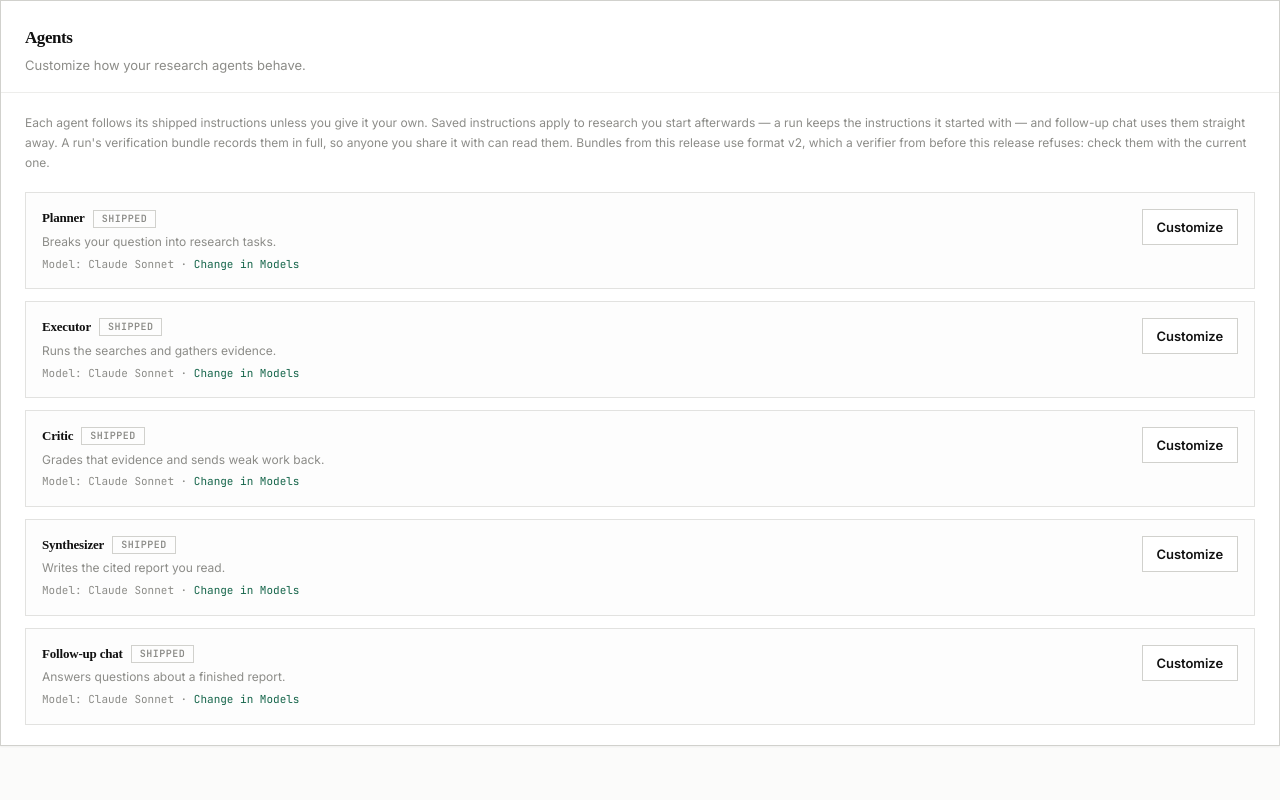
Test case: editing › keeps one editor open at a time
Click the button "Customize" in the row of "Planner": {"x": 1190, "y": 227} [1142,209,1238,245]
(page scrolled)
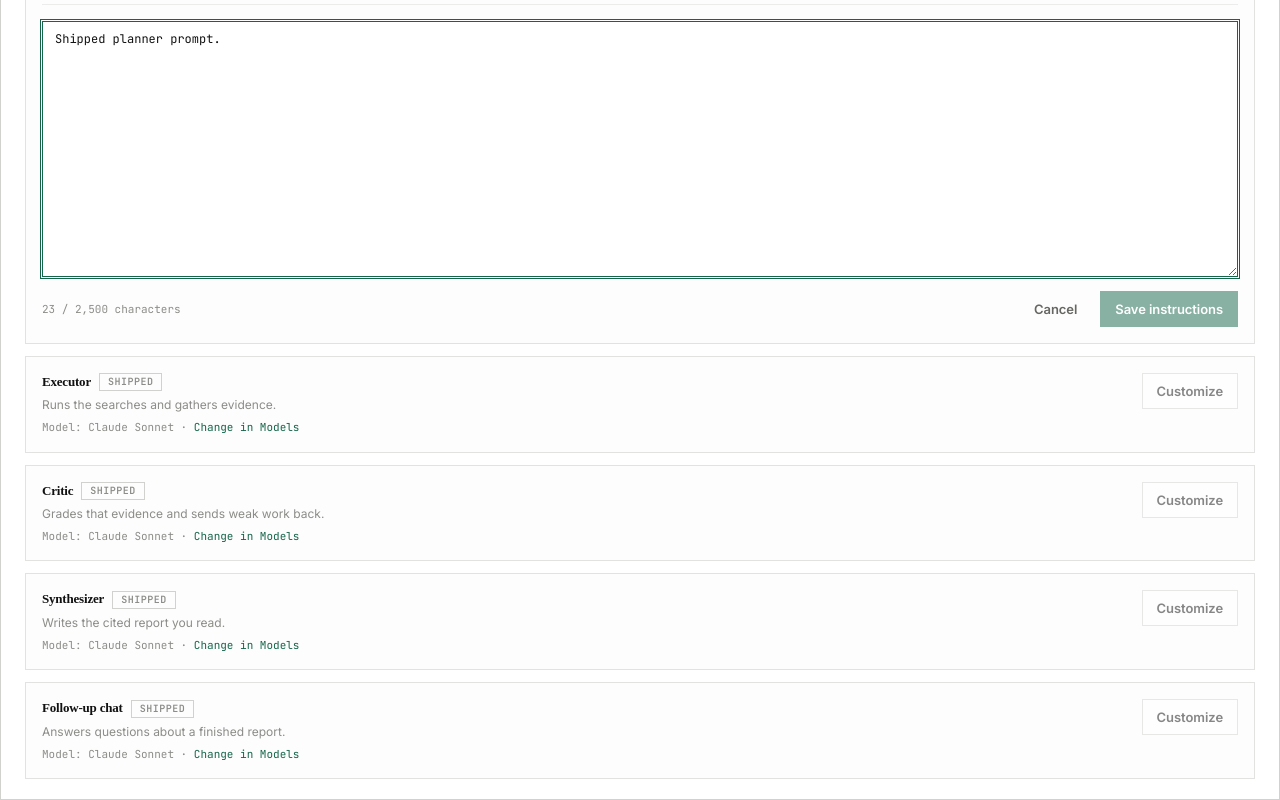
Now the number of text boxes is 1, box [42,21,1238,277]
Now the button "Customize" in the row of "Critic" is disabled, box [1142,482,1238,518]
